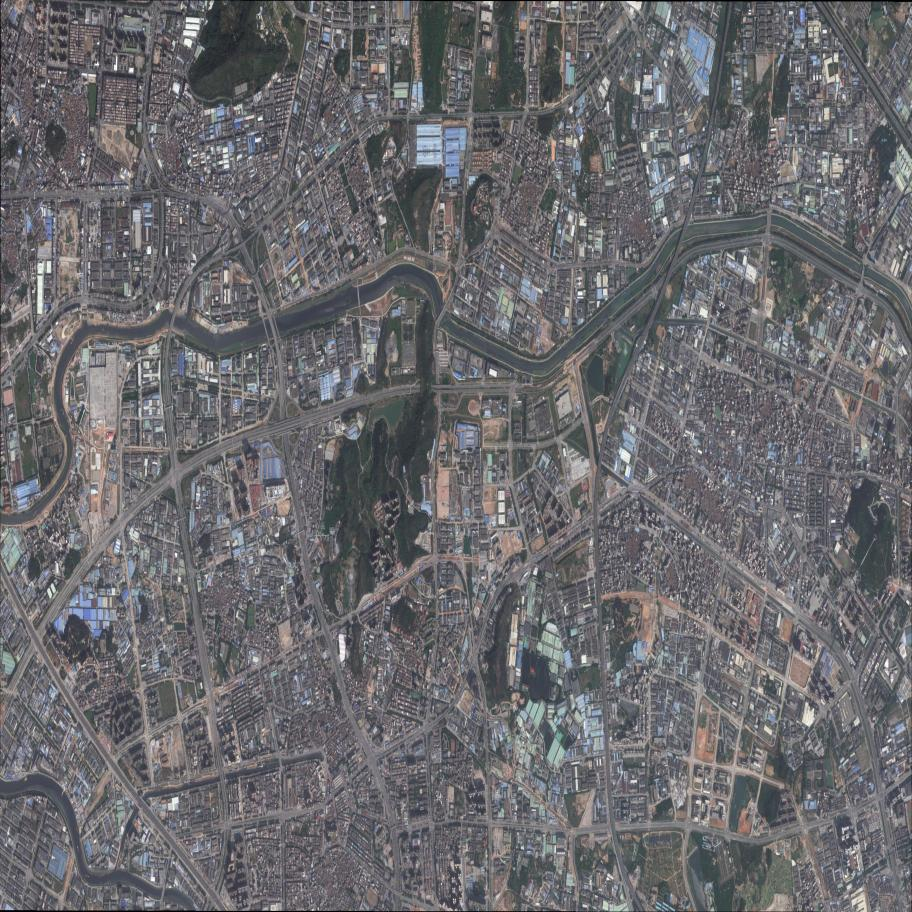storage-tank: (138, 848, 140, 851), (136, 849, 138, 852), (133, 851, 135, 854), (125, 857, 127, 860), (124, 861, 126, 864), (141, 847, 142, 851), (132, 853, 133, 855)
